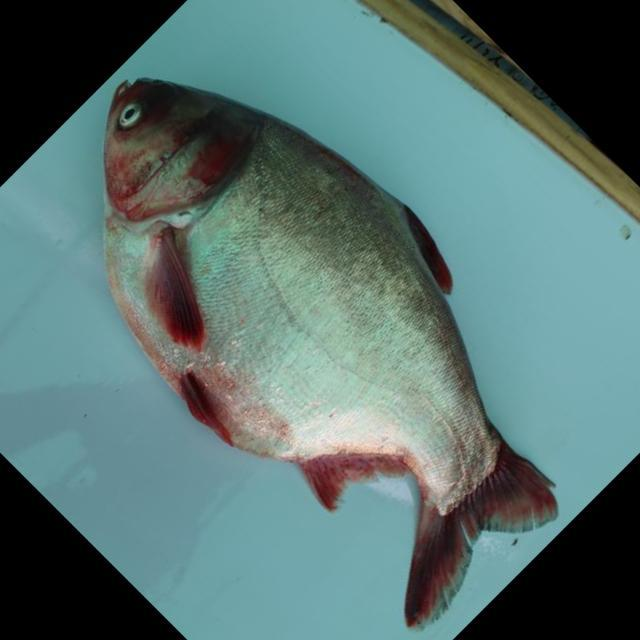SilverCarp: (107, 73, 575, 597)
